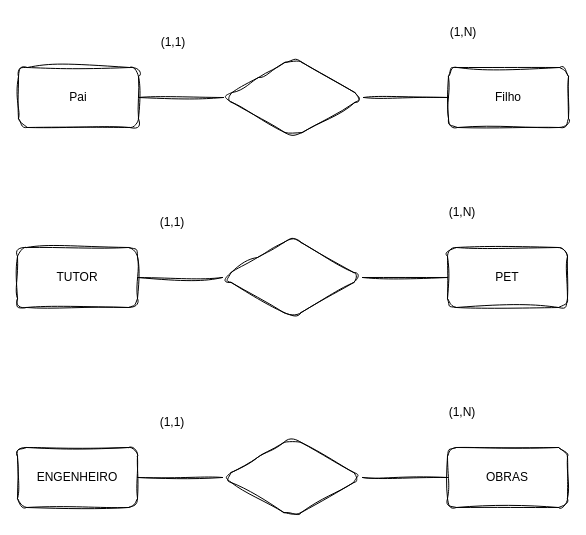
Image size: 586x535. Some labels were removed from this diagram. Each missing label, with the centre of its shape:
CUIDA: the point at 292,277
FISCALIZA: the point at 292,477
TEM: the point at 293,97
